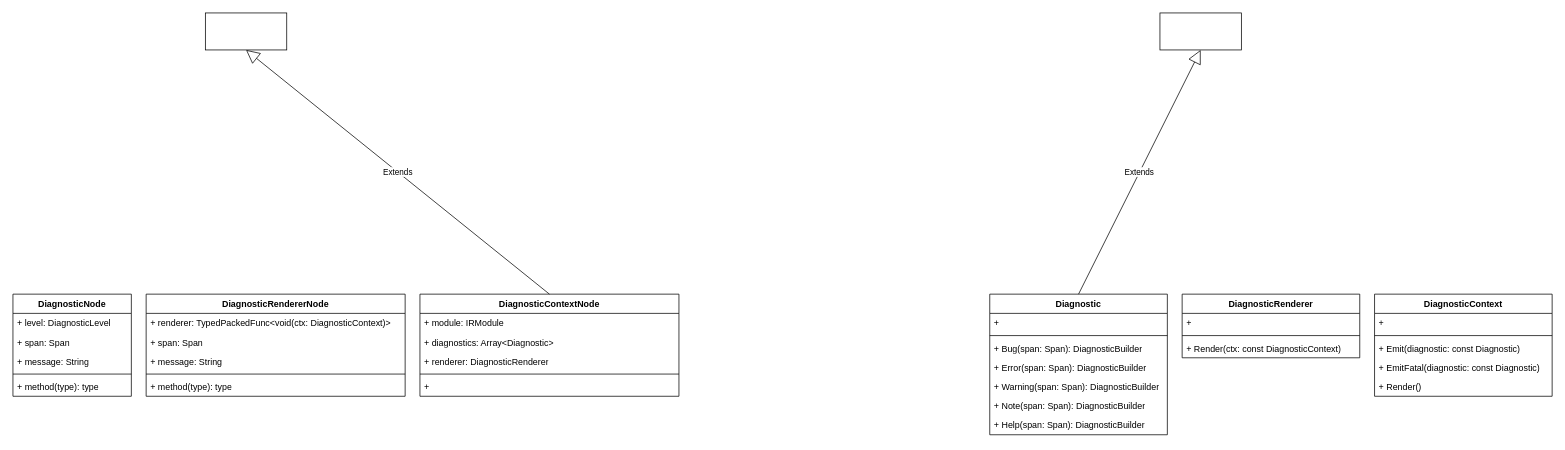
The diagram is 1565 pixels wide and 450 high, and some of its shapes have lost their labels. The shapes that lost their labels are listed below. From the top down, each one's centre as x and y in pixels, then its label:
(246,31): Object
(1200,31): ObjectRef
